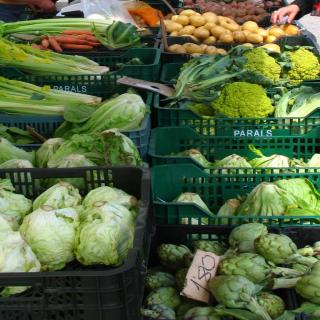Broccoli: (174, 47, 320, 153)
